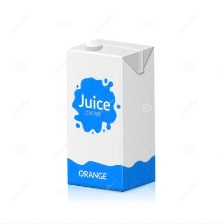carton: (58, 31, 164, 199)
